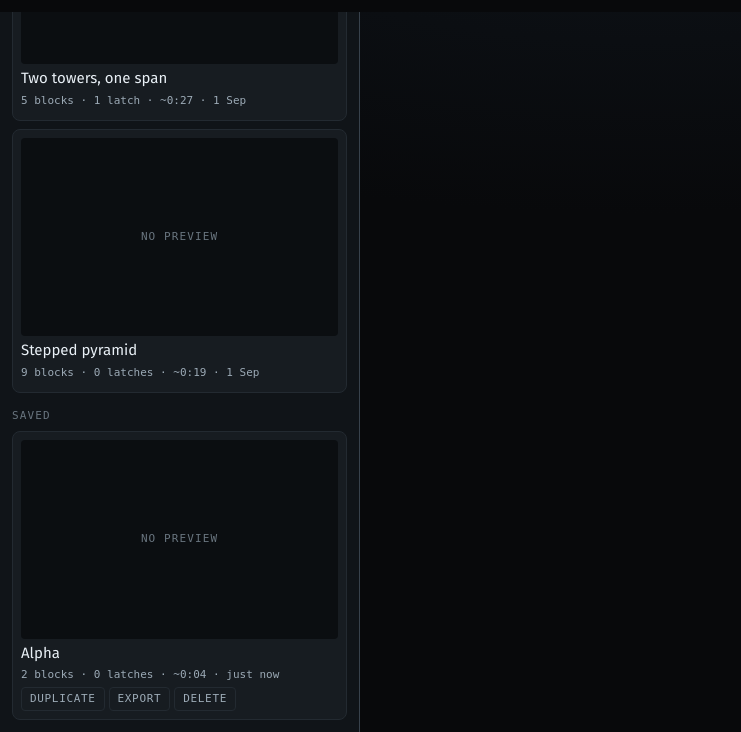
Test: LibraryDrawer — rename, duplicate, delete with undo › deletes immediately and offers a six-second undo that really restores it
(page scrolled)
Click the button "DELETE" at (205, 699), box [174,687,236,711]
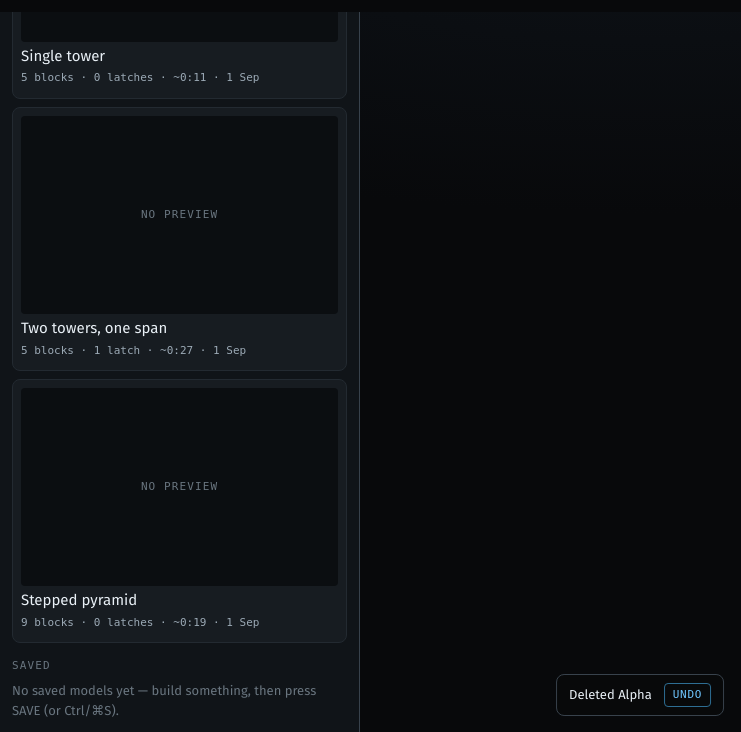
Now the message shows "Deleted Alpha", box [556,674,724,716]
Click the button "UNDO" at (687, 695), box [664,683,711,707]
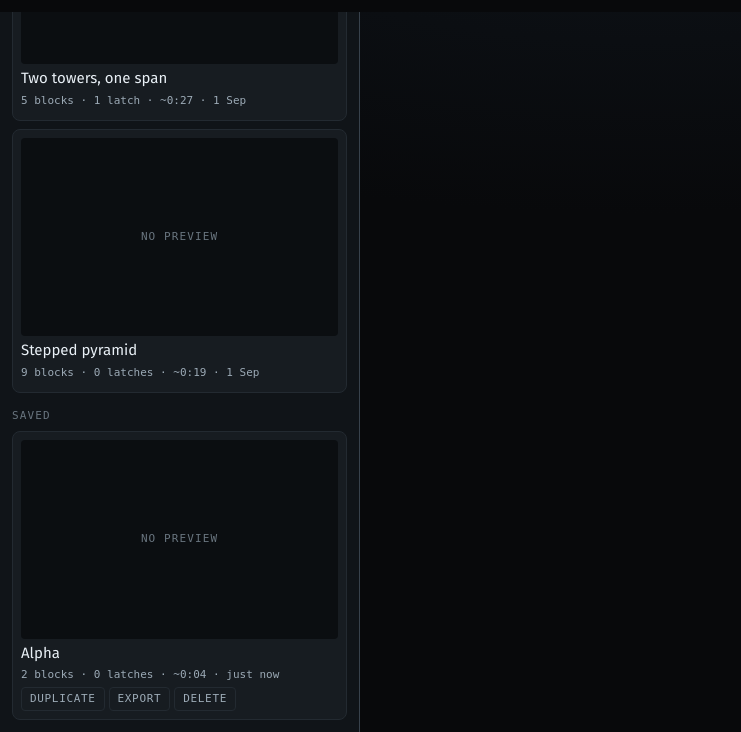
Now the list item "Alpha" is shown, box [12,431,347,720]
